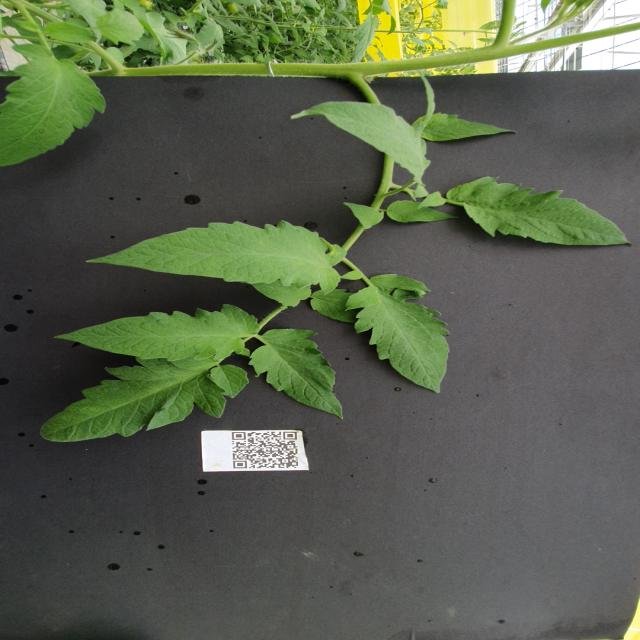Healthy Leaf: (82, 216, 341, 296), (39, 360, 228, 444), (444, 176, 634, 249), (1, 42, 108, 170), (344, 274, 455, 395), (55, 303, 263, 363), (290, 102, 434, 187), (249, 329, 345, 423), (414, 112, 520, 144), (389, 200, 462, 225), (313, 288, 358, 326), (253, 281, 314, 308), (210, 365, 250, 401), (344, 201, 388, 232), (42, 22, 100, 45)
